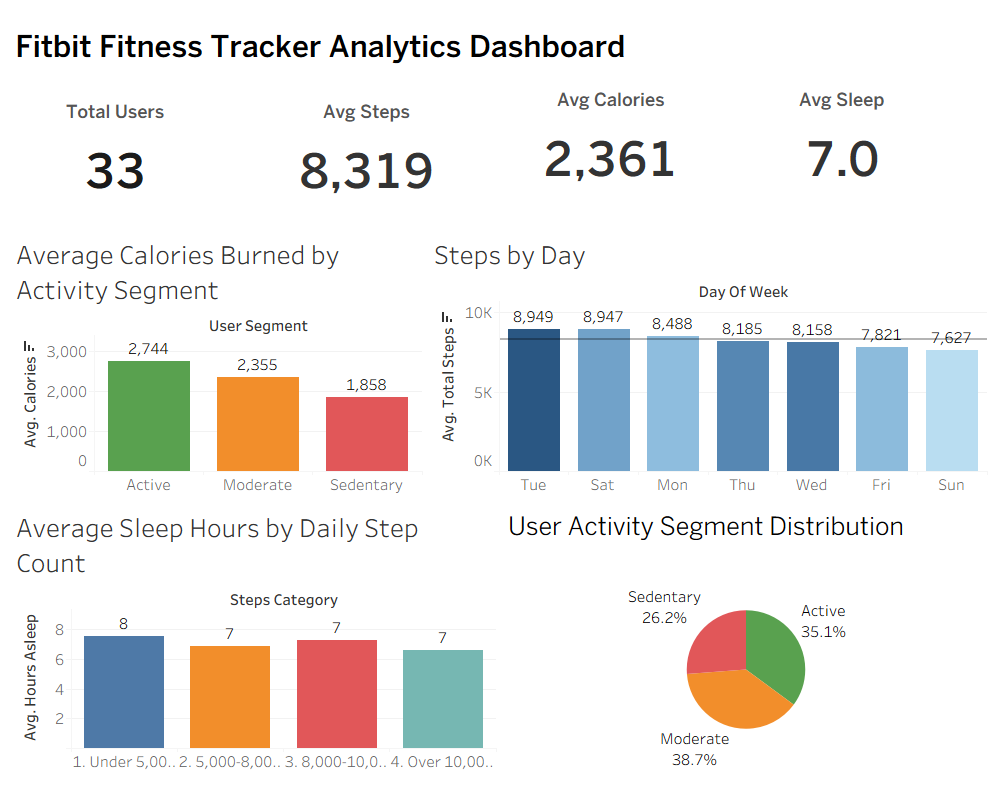

This screenshot's page, from the dashboard's own definition file:
{"tool":"tableau","page":{"name":"Dashboard 1","canvas":[1000,800],"ordinal":0},"visuals":[{"type":"title","box":[8,8,984,78]},{"type":"worksheet","title":"KPI - Total Users","mark":"Automatic","box":[8,86,246,135]},{"type":"worksheet","title":"KPI - Avg Steps","mark":"Automatic","box":[254,86,246,135]},{"type":"worksheet","title":"KPI - Avg Calories","mark":"Automatic","box":[500,86,246,135]},{"type":"worksheet","title":"KPI - Avg Sleep","mark":"Automatic","box":[746,86,246,135]},{"type":"worksheet","title":"Calorie By Segment","mark":"Automatic","rows":["CALORIES"],"cols":["USER_SEGMENT"],"box":[8,226.7,418,273.3]},{"type":"worksheet","title":"Steps by Day","mark":"Automatic","rows":["TOTAL_STEPS"],"cols":["DAY_OF_WEEK"],"box":[426,226.7,566,273.3]},{"type":"worksheet","title":"Sleep vs Steps","mark":"Automatic","rows":["HOURS_ASLEEP"],"cols":["STEPS_CATEGORY"],"box":[8,500,492,292]},{"type":"worksheet","title":"Segment Distribution","mark":"Pie","box":[500,500,492,292]}]}

Visuals, with their boxes in screenshot pixels (x1, y1, x2, y2), scaled from the page's 1000x800 canvas onto the 1000x800 screenshot:
title: x1=8, y1=8, x2=992, y2=86
"KPI - Total Users" worksheet: x1=8, y1=86, x2=254, y2=221
"KPI - Avg Steps" worksheet: x1=254, y1=86, x2=500, y2=221
"KPI - Avg Calories" worksheet: x1=500, y1=86, x2=746, y2=221
"KPI - Avg Sleep" worksheet: x1=746, y1=86, x2=992, y2=221
"Calorie By Segment" worksheet: x1=8, y1=227, x2=426, y2=500
"Steps by Day" worksheet: x1=426, y1=227, x2=992, y2=500
"Sleep vs Steps" worksheet: x1=8, y1=500, x2=500, y2=792
"Segment Distribution" worksheet (Pie marks): x1=500, y1=500, x2=992, y2=792
